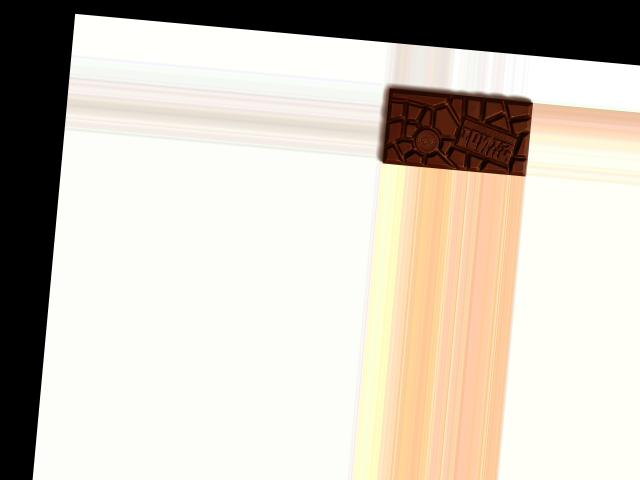chocolate: (380, 84, 534, 176)
